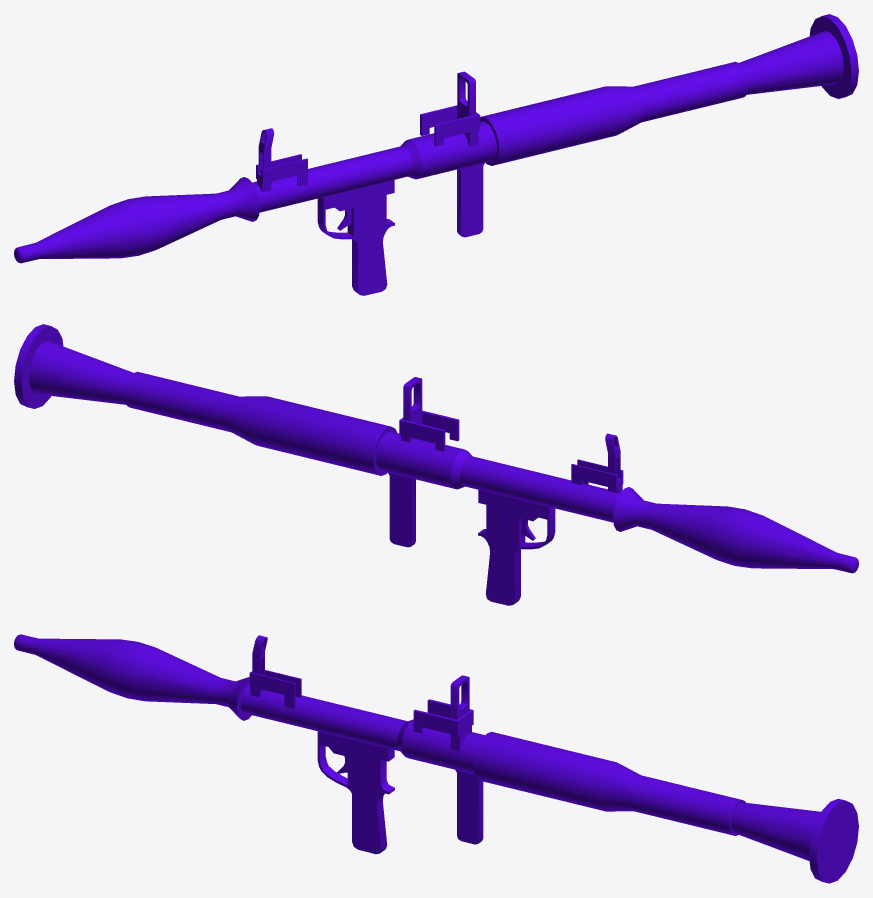
Rendered from RPG7.fbx.
3 views of the same model, one above another, from view 1: azimuth 30°, elevation 25°; view 2: azimuth 150°, elevation 25°; view 3: azimuth 330°, elevation 25° (orthographic).
Parts seen in each view (by area): view 1: Cylinder.001, Cylinder.001_Piece, Cylinder, Cylinder.003, Cylinder.004; view 2: Cylinder.001, Cylinder.001_Piece, Cylinder, Cylinder.003, Cylinder.004; view 3: Cylinder.001, Cylinder.001_Piece, Cylinder, Cylinder.003, Cylinder.004.
Boxes of the visible parts, bbox=[...] form: Cylinder.001: bbox=[252, 61, 748, 295]; Cylinder.001_Piece: bbox=[14, 177, 259, 263]; Cylinder: bbox=[739, 14, 858, 98]; Cylinder.003: bbox=[420, 71, 480, 147]; Cylinder.004: bbox=[256, 128, 307, 192]; Cylinder.001: bbox=[124, 371, 620, 605]; Cylinder.001_Piece: bbox=[613, 487, 858, 573]; Cylinder: bbox=[14, 324, 133, 408]; Cylinder.003: bbox=[399, 377, 459, 451]; Cylinder.004: bbox=[571, 433, 623, 492]; Cylinder.001: bbox=[240, 684, 745, 854]; Cylinder.001_Piece: bbox=[14, 634, 251, 720]; Cylinder: bbox=[731, 798, 858, 883]; Cylinder.003: bbox=[413, 675, 473, 751]; Cylinder.004: bbox=[249, 635, 301, 708].
Size of the model in its own units: 95.58 by 21.71 by 8.57.
